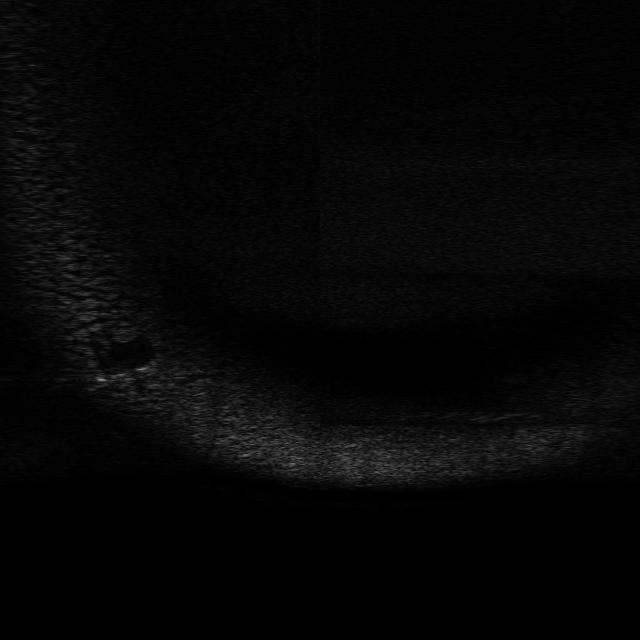plane: (78, 359, 161, 392)
